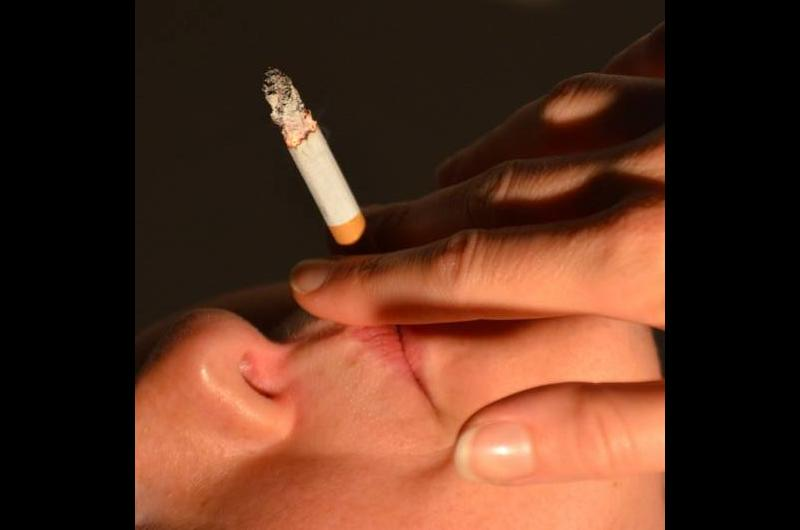Cigarette: (261, 69, 375, 256)
